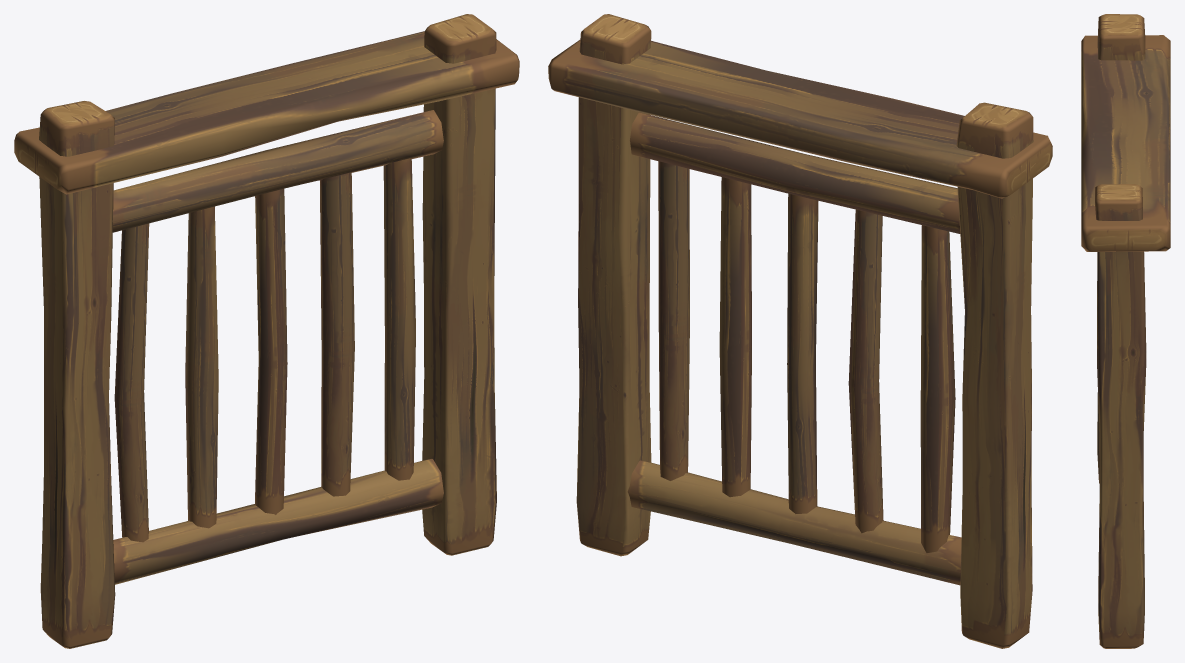
Rendered from SM_MOD_railing_town_03_02.fbx.
The picture shows the model from 3 angles, left to right: view 1: azimuth 30°, elevation 25°; view 2: azimuth 150°, elevation 25°; view 3: azimuth 270°, elevation 25°; orthographic projection. The views are drawn at different scales.
Parts seen in each view (by area): view 1: SM_MOD_railing_town_03_02_LOD0; view 2: SM_MOD_railing_town_03_02_LOD0; view 3: SM_MOD_railing_town_03_02_LOD0.
Part boxes in pixels (x1=…): SM_MOD_railing_town_03_02_LOD0: x1=14, y1=14, x2=519, y2=648; SM_MOD_railing_town_03_02_LOD0: x1=548, y1=14, x2=1052, y2=648; SM_MOD_railing_town_03_02_LOD0: x1=1081, y1=14, x2=1170, y2=648.
Size of what is drawn, in the model's own units: 100 by 109 by 19.36.
